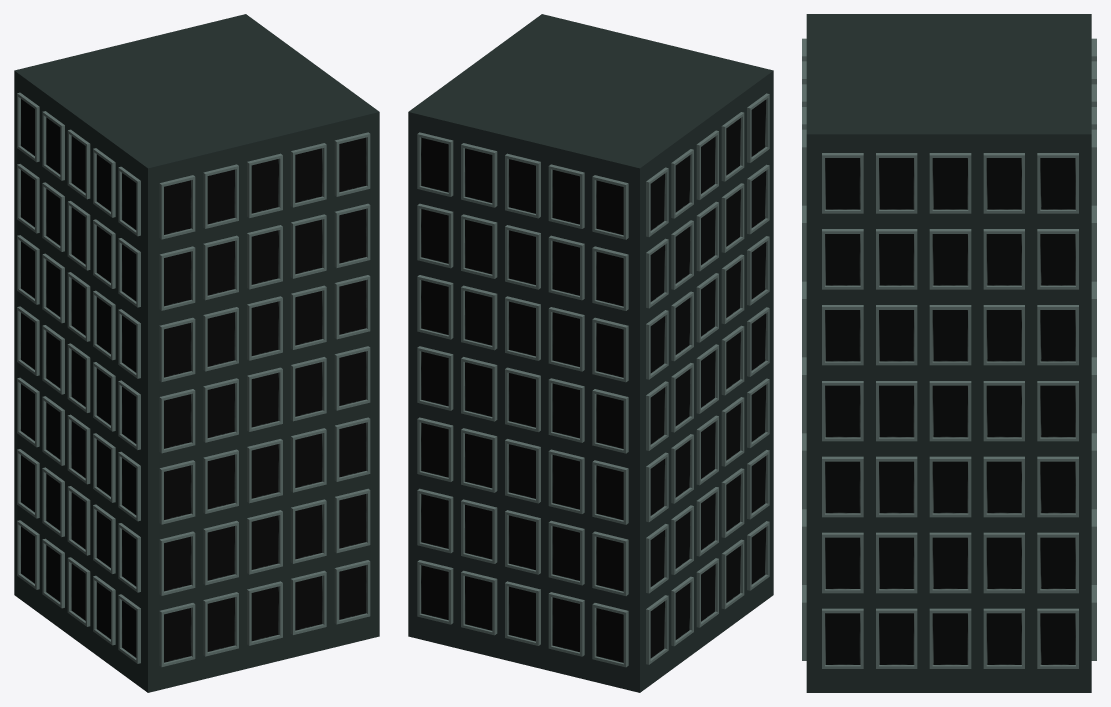
The model's file is building1.fbx.
The picture shows the model from 3 angles, left to right: view 1: azimuth 30°, elevation 25°; view 2: azimuth 150°, elevation 25°; view 3: azimuth 270°, elevation 25°; orthographic projection. The views are drawn at different scales.
Visible parts, largest first — view 1: bina_1; view 2: bina_1; view 3: bina_1.
Part boxes in pixels (x1,y1,x2,y2): bina_1: (14,14,379,692); bina_1: (408,14,773,692); bina_1: (802,14,1096,692).
Size of the model in its own units: 206 by 433 by 207.
